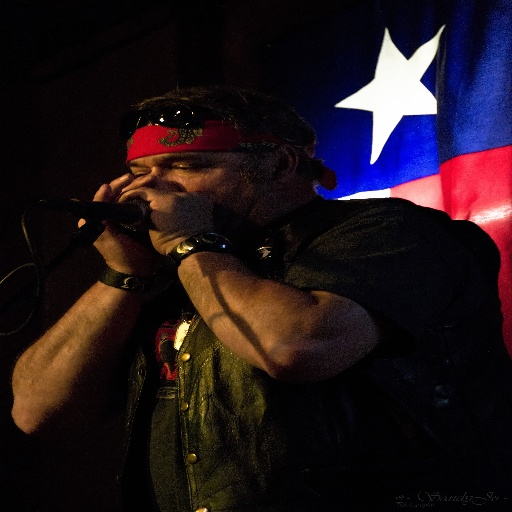hand: (72, 171, 162, 270), (113, 181, 213, 260)
